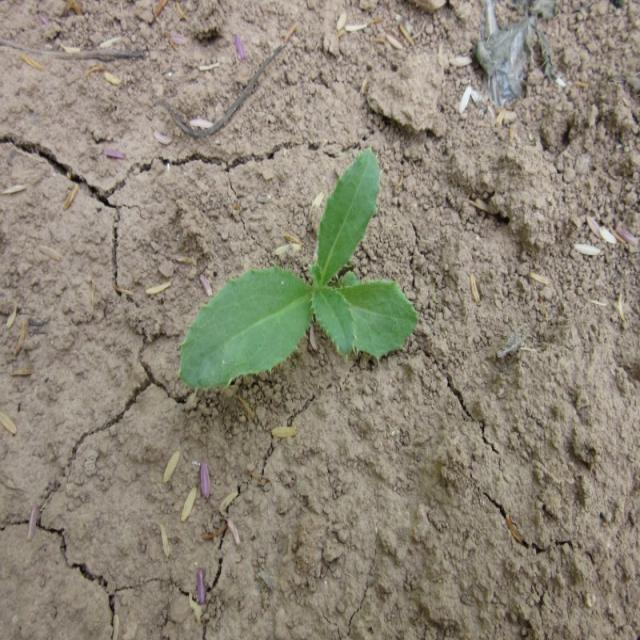field_thistle: (165, 134, 409, 424)
